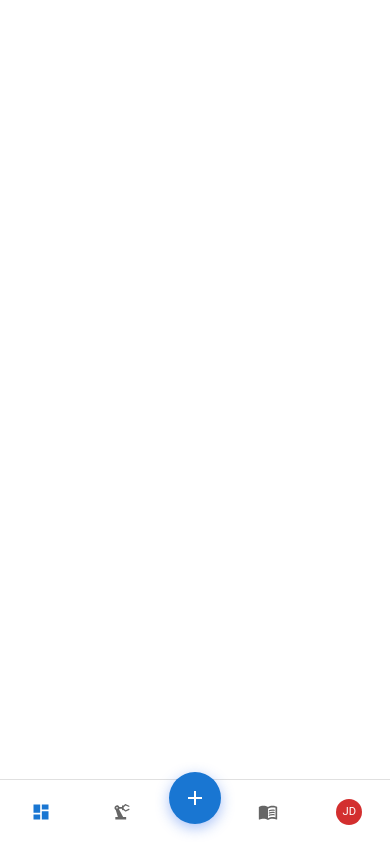
Test case: BottomNav › pages demoted into the account sheet › offers the demoted page in the account sheet under its fuller menu label
What coordinates should you click on to do the following:
click the button with aria-label "open account menu"
I would click on:
 (349, 812)
Its box is [308,780,389,843].
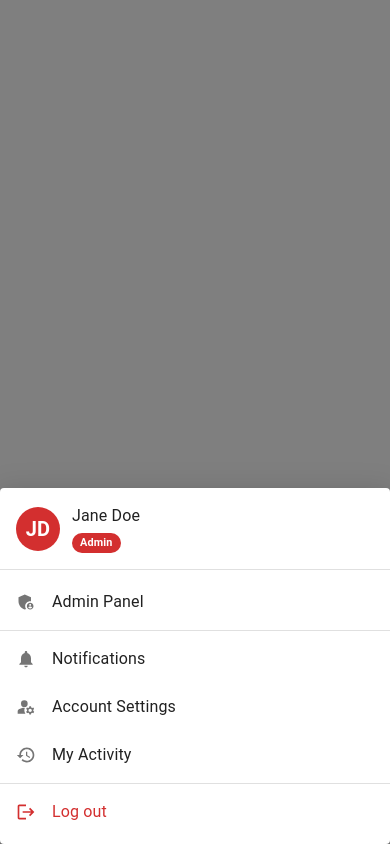
Result: the text "Admin Panel" is shown at [52,592,144,611]
